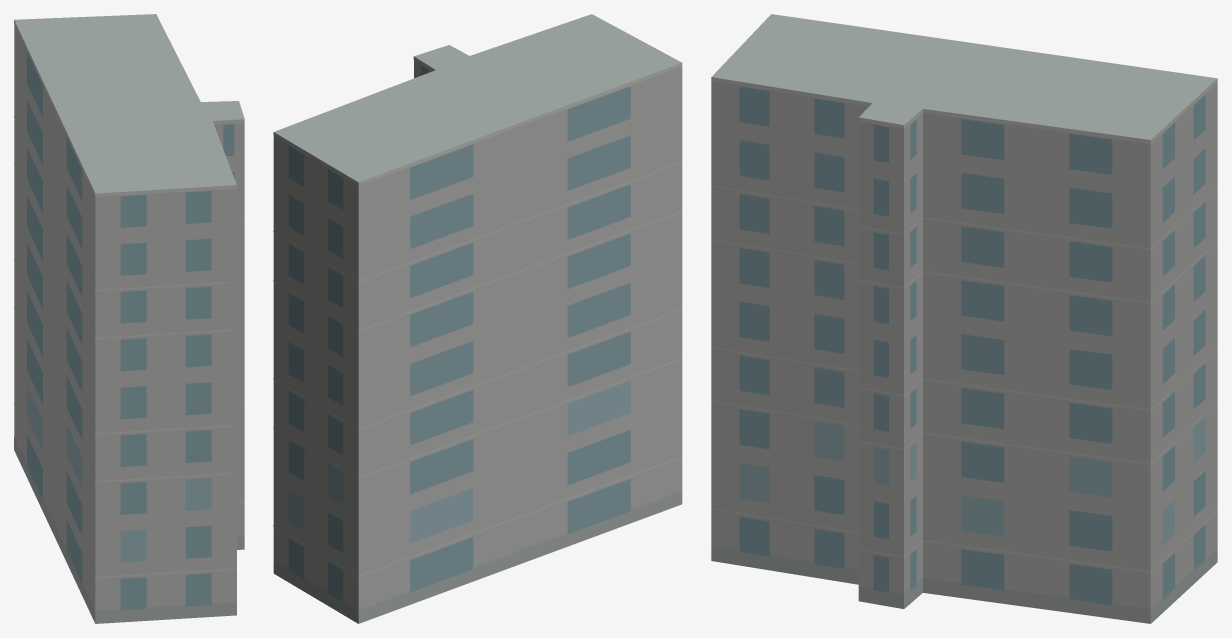
Rendered from survey-upis-32801357.glb.
The picture shows the model from 3 angles, left to right: view 1: azimuth 30°, elevation 25°; view 2: azimuth 150°, elevation 25°; view 3: azimuth 270°, elevation 25°; orthographic projection. The views are drawn at different scales.
Parts seen in each view (by area): view 1: survey-upis-32801357.tmp; view 2: survey-upis-32801357.tmp; view 3: survey-upis-32801357.tmp.
Boxes of the visible parts, box(x1,y1,x2,y2) form: survey-upis-32801357.tmp: box(14, 14, 244, 623); survey-upis-32801357.tmp: box(273, 14, 682, 623); survey-upis-32801357.tmp: box(711, 14, 1217, 623).
Bounding box in the file's own units: 16.38 × 29.3 × 27.8.
